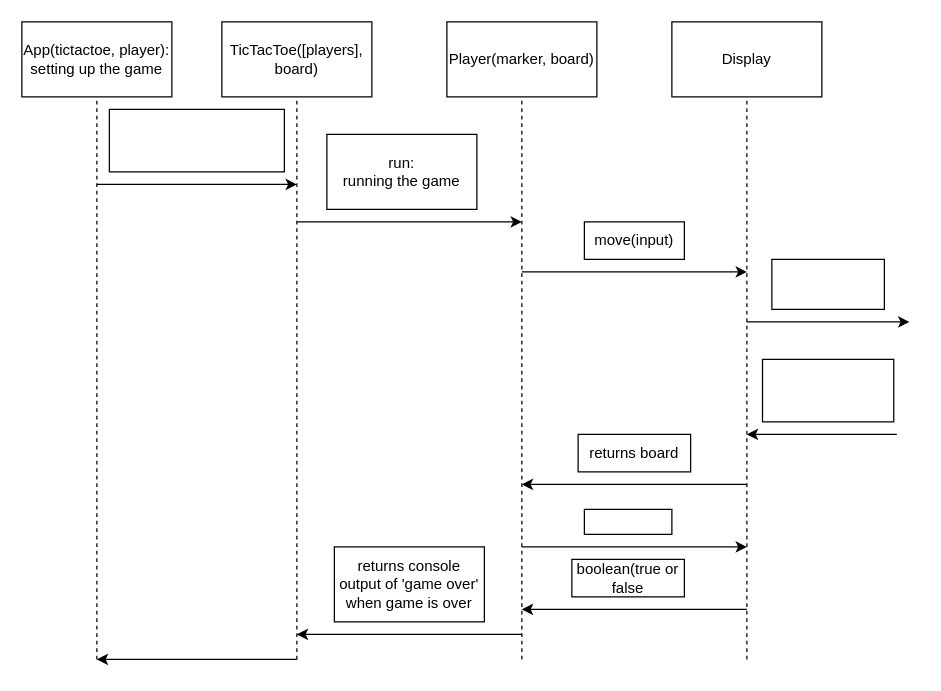
Some shapes in this 941 by 691 pixel diagram are drawn without their labels. Each missing label, with the centre of its shape:
"print(board)" belongs at pixel 827 283.
"returns console output of board" belongs at pixel 827 390.
"run: create board. initialize players." belongs at pixel 196 140.
"won?" belongs at pixel 627 521.
